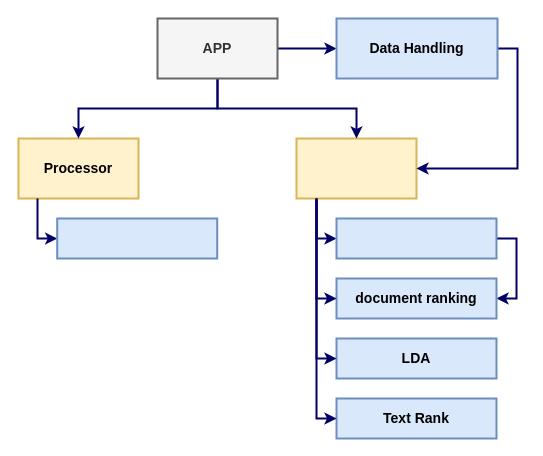
Some shapes in this 543 by 456 pixel diagram are drawn without their labels. Each missing label, with the centre of its shape:
create model: the point at 137,238
create summary: the point at 416,238
Summary Processor: the point at 356,168
